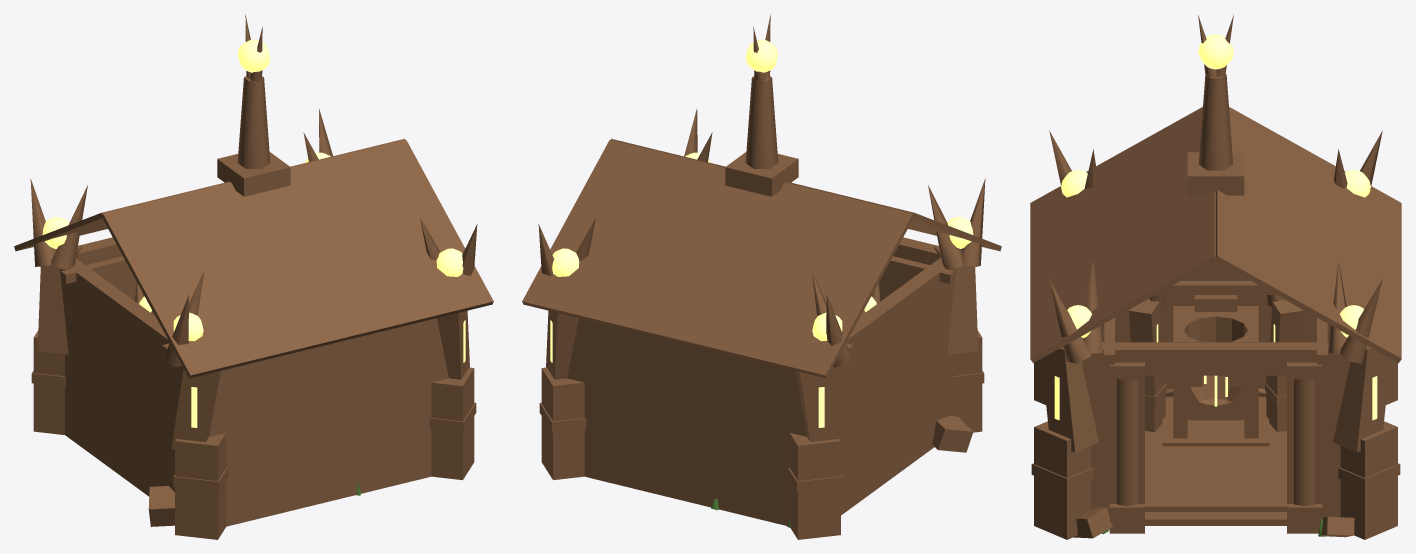
Rendered from shrine-storm-seat.glb.
3 views of the same model, side by side, from view 1: azimuth 30°, elevation 25°; view 2: azimuth 150°, elevation 25°; view 3: azimuth 270°, elevation 25° (orthographic). The views are drawn at different scales.
Parts seen in each view (by area): view 1: Mesh_RoofA, Mesh_ShrineRoom_WallRight, Mesh_ShrineRoom_WallBack, Mesh_Base (×3), Mesh_Mid (×3), Mesh_RoofSpikeBody, Mesh_RoofSpikeBase, Mesh_ProngL (×2), Mesh_RoofB, Mesh_ShrineRoom_WallLeft, Mesh_Band (×2), Mesh_BaseRock3 (+4 smaller); view 2: Mesh_RoofB, Mesh_ShrineRoom_WallLeft, Mesh_ShrineRoom_WallBack, Mesh_Base (×3), Mesh_Mid (×3), Mesh_RoofSpikeBody, Mesh_RoofSpikeBase, Mesh_ProngR (×2), Mesh_RoofA, Mesh_ShrineRoom_WallRight, Mesh_Band (×2), Mesh_BaseRock3 (+4 smaller); view 3: Mesh_RoofB, Mesh_RoofA, Mesh_Base (×4), Mesh_ShrineRoom_Floor, Mesh_Mid (×4), Mesh_ThroneMesh, Mesh_ShrineRoom_WallFront_L, Mesh_ShrineRoom_WallFront_R, Mesh_ColBody (×2), Mesh_ShrineRoom_WallFront_Lintel, Mesh_ShrineRoom_WallBack, Mesh_ThroneBase (+14 smaller).
Boxes of the visible parts, <box> form: Mesh_RoofA: <box>101,140,493,378</box>; Mesh_ShrineRoom_WallRight: <box>209,318,448,526</box>; Mesh_ShrineRoom_WallBack: <box>60,258,183,496</box>; Mesh_Base (×3): <box>33,330,474,539</box>; Mesh_Mid (×3): <box>37,246,469,449</box>; Mesh_RoofSpikeBody: <box>237,76,270,168</box>; Mesh_RoofSpikeBase: <box>217,152,290,196</box>; Mesh_ProngL (×2): <box>51,185,188,366</box>; Mesh_RoofB: <box>14,138,404,251</box>; Mesh_ShrineRoom_WallLeft: <box>78,237,144,300</box>; Mesh_Band (×2): <box>173,402,476,491</box>; Mesh_BaseRock3: <box>148,486,174,526</box>; Mesh_RoofB: <box>522,140,914,378</box>; Mesh_ShrineRoom_WallLeft: <box>567,318,806,525</box>; Mesh_ShrineRoom_WallBack: <box>832,258,955,515</box>; Mesh_Base (×3): <box>541,330,982,539</box>; Mesh_Mid (×3): <box>546,246,978,449</box>; Mesh_RoofSpikeBody: <box>745,76,778,168</box>; Mesh_RoofSpikeBase: <box>725,152,798,196</box>; Mesh_ProngR (×2): <box>826,185,962,367</box>; Mesh_RoofA: <box>611,138,1001,251</box>; Mesh_ShrineRoom_WallRight: <box>879,237,937,301</box>; Mesh_Band (×2): <box>539,402,842,491</box>; Mesh_BaseRock3: <box>932,415,973,452</box>; Mesh_RoofB: <box>1215,107,1401,362</box>; Mesh_RoofA: <box>1030,107,1217,362</box>; Mesh_Base (×4): <box>1034,375,1397,539</box>; Mesh_ShrineRoom_Floor: <box>1145,397,1286,525</box>; Mesh_Mid (×4): <box>1041,299,1390,452</box>; Mesh_ThroneMesh: <box>1173,306,1258,438</box>; Mesh_ShrineRoom_WallFront_L: <box>1287,342,1350,517</box>; Mesh_ShrineRoom_WallFront_R: <box>1081,342,1144,529</box>; Mesh_ColBody (×2): <box>1117,379,1314,506</box>; Mesh_ShrineRoom_WallFront_Lintel: <box>1143,342,1288,375</box>; Mesh_ShrineRoom_WallBack: <box>1100,261,1330,397</box>; Mesh_ThroneBase: <box>1162,398,1269,446</box>.
Size of the model in its own units: 5.39 by 7.1 by 5.24.
